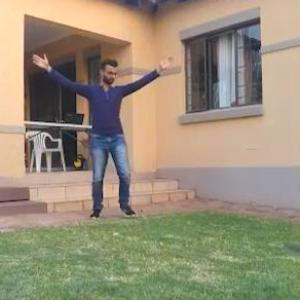takeoff: (29, 52, 172, 212)
